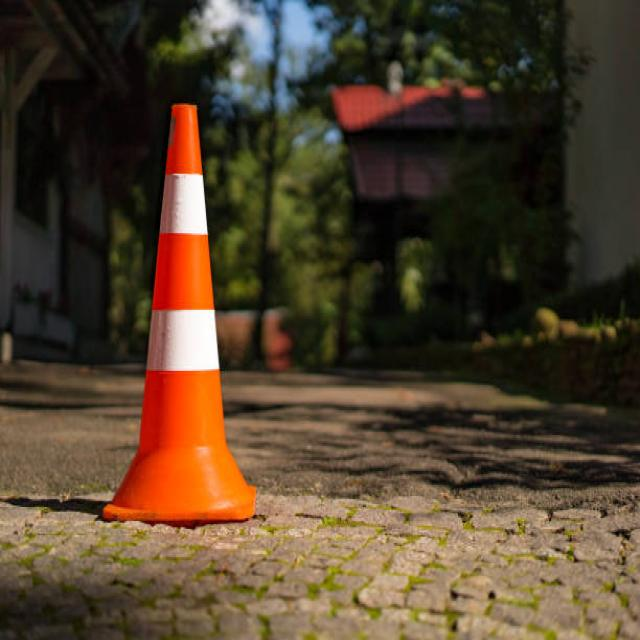Traffic Cone: (86, 52, 279, 543)
